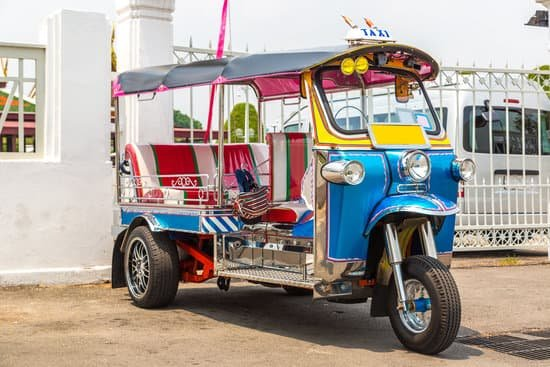threewheel: (111, 27, 475, 355)
